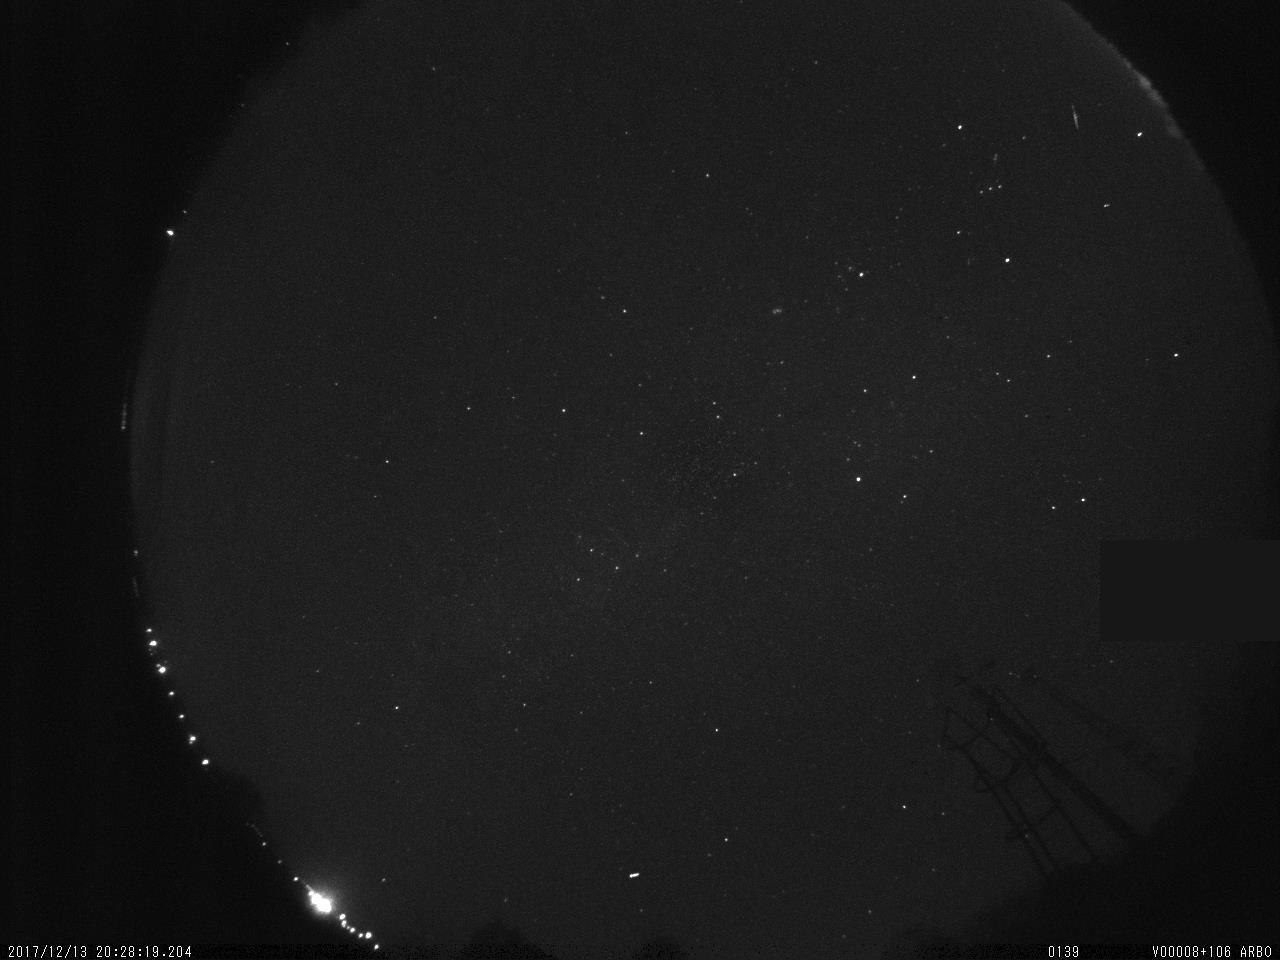meteor: (1063, 93, 1084, 141)
